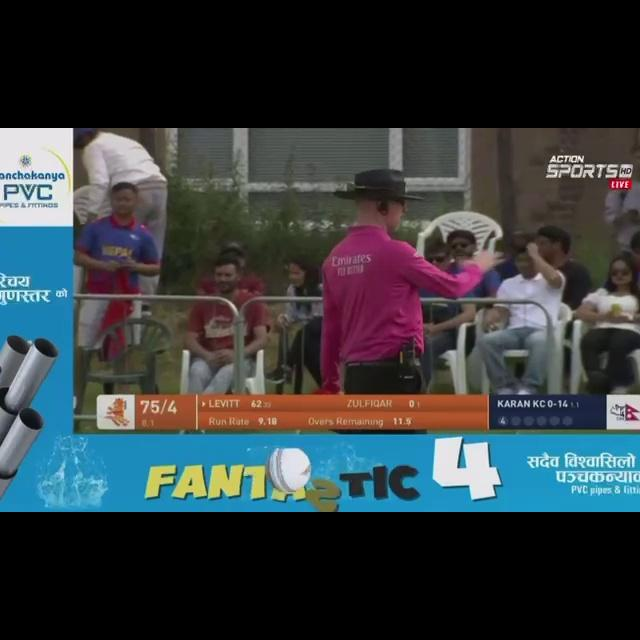umpire: (306, 158, 511, 398)
